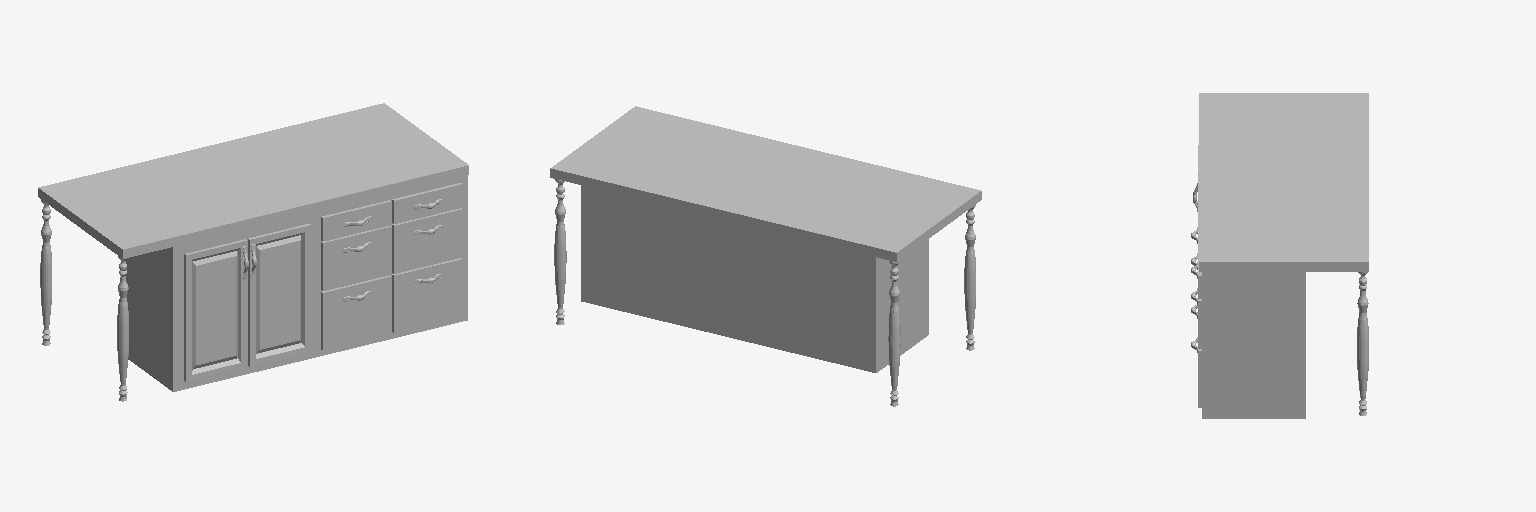
Rendered from kitchenIsland.obj.
3 renders of one model, left to right at view 1: azimuth 30°, elevation 25°; view 2: azimuth 150°, elevation 25°; view 3: azimuth 270°, elevation 25°, orthographic.
Parts seen in each view (by area): view 1: PolyMesh_2, PolyMesh_1, PolyMesh_1_2, PolyMesh_1_1, Cube_3_5, Cube_3, Cube_3_4, Cube_3_1, Cube_3_3, Cube_3_2, Lathed_Object_3_2, Lathed_Object_3_1; view 2: PolyMesh_1, PolyMesh_2, Lathed_Object_3, Lathed_Object_3_1, Lathed_Object_3_2; view 3: PolyMesh_2, PolyMesh_1, Lathed_Object_3.
Boxes of the visible parts, x1,y1,x2,y2 form: PolyMesh_2: [38, 103, 468, 258]; PolyMesh_1: [126, 175, 467, 391]; PolyMesh_1_2: [184, 239, 247, 381]; PolyMesh_1_1: [248, 224, 311, 366]; Cube_3_5: [392, 258, 462, 332]; Cube_3: [321, 275, 391, 350]; Cube_3_4: [392, 208, 462, 273]; Cube_3_1: [321, 226, 391, 290]; Cube_3_3: [392, 183, 462, 223]; Cube_3_2: [321, 200, 391, 241]; Lathed_Object_3_2: [117, 256, 128, 401]; Lathed_Object_3_1: [40, 200, 51, 345]; PolyMesh_1: [581, 185, 928, 372]; PolyMesh_2: [550, 106, 981, 261]; Lathed_Object_3: [554, 179, 566, 324]; Lathed_Object_3_1: [888, 260, 900, 406]; Lathed_Object_3_2: [964, 205, 975, 350]; PolyMesh_2: [1199, 93, 1368, 271]; PolyMesh_1: [1202, 272, 1305, 418]; Lathed_Object_3: [1357, 272, 1368, 415].
Size of the model in its own units: 4.32 by 1.86 by 1.93.